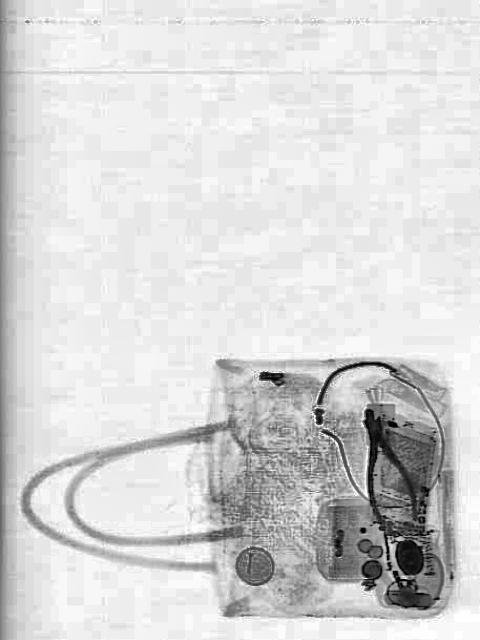Pliers: (345, 399, 423, 536)
